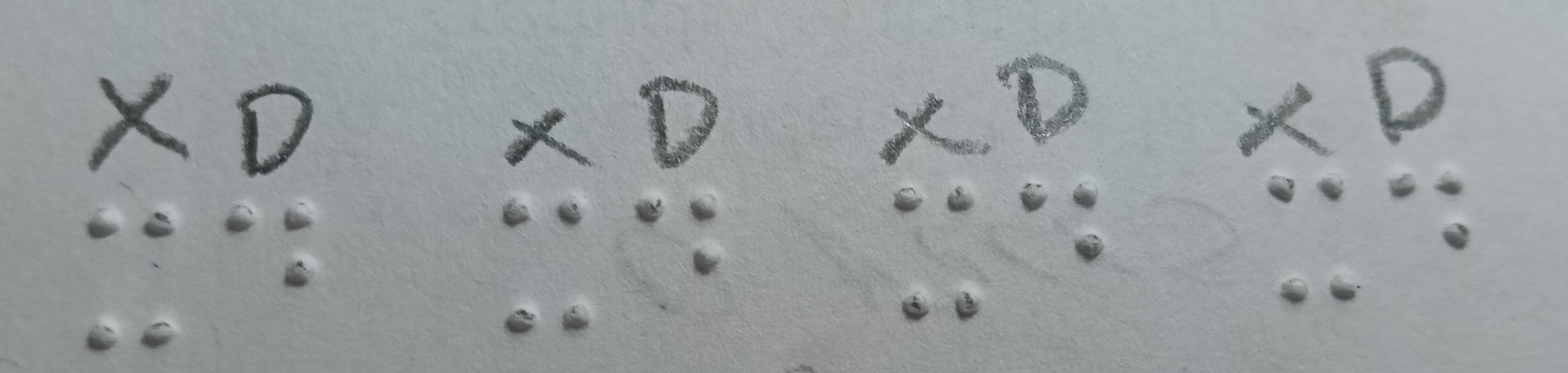d: (212, 192, 362, 302), (620, 176, 739, 282), (1368, 159, 1494, 258), (1013, 170, 1121, 280)
x: (861, 168, 1000, 339), (62, 194, 199, 359), (485, 185, 600, 346), (1245, 163, 1364, 313)
